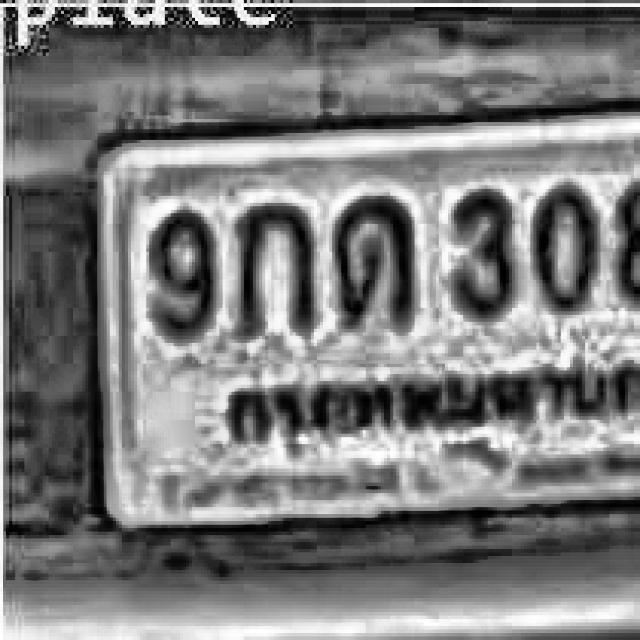license-plate: (52, 90, 640, 574)
